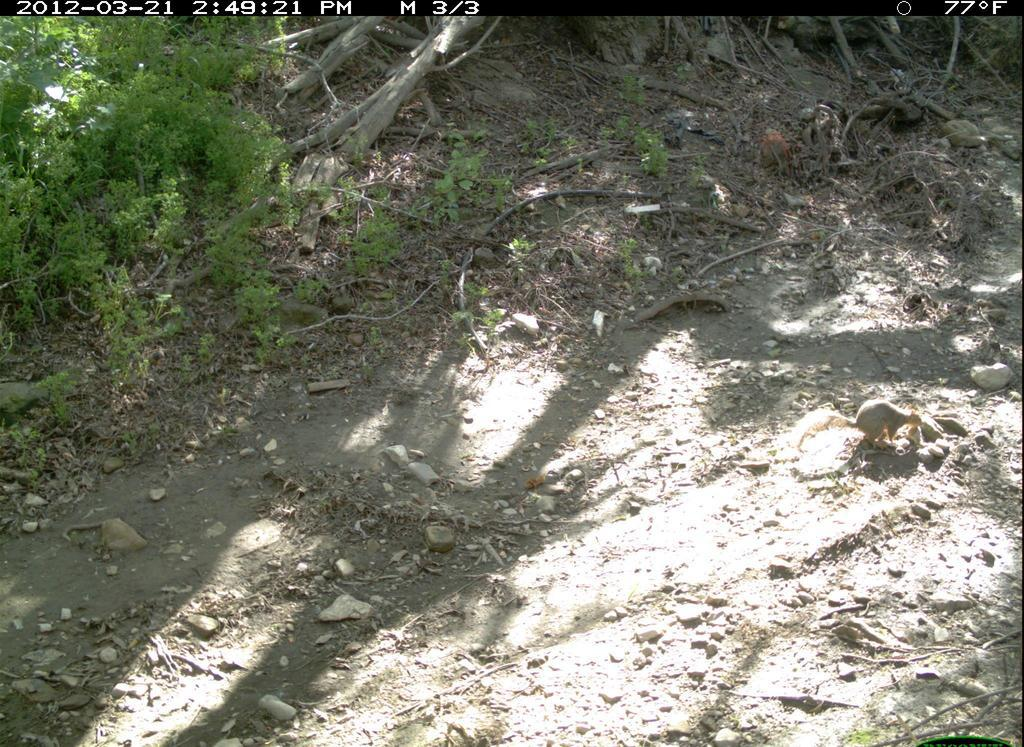squirrel: (793, 396, 928, 463)
